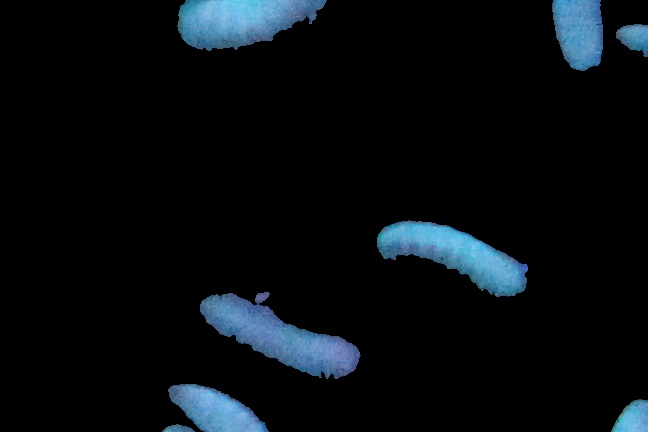larvae: (198, 286, 363, 381), (377, 220, 527, 304), (168, 1, 338, 60), (163, 377, 288, 432), (547, 1, 606, 85)
